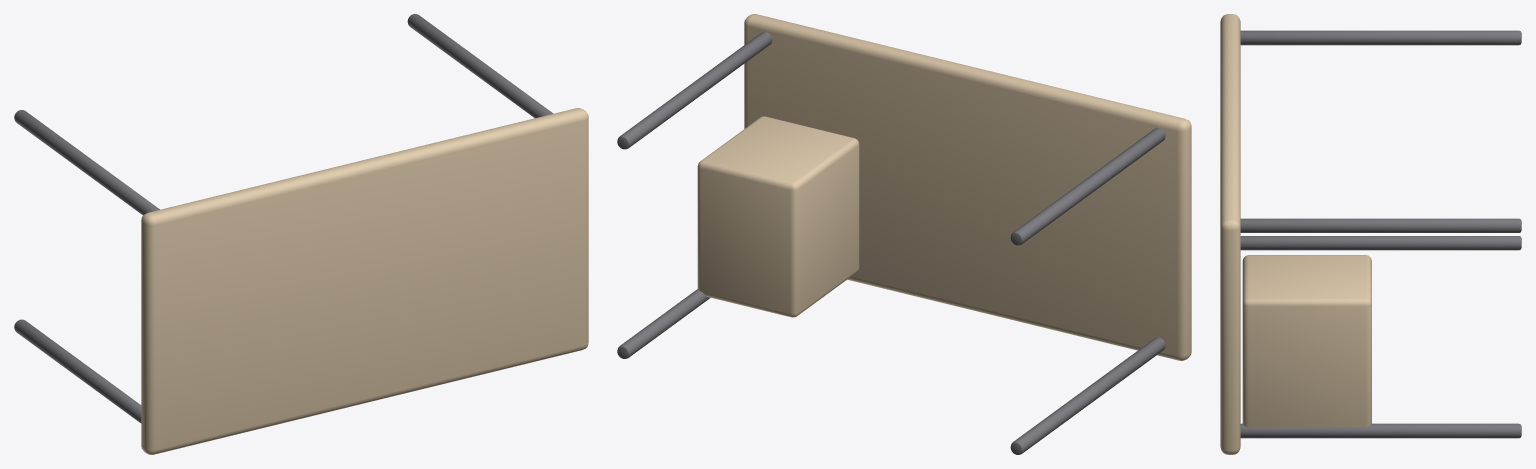
The model's file is desk_single.glb.
The picture shows the model from 3 angles, left to right: view 1: azimuth 30°, elevation 25°; view 2: azimuth 150°, elevation 25°; view 3: azimuth 270°, elevation 25°; orthographic projection. The views are drawn at different scales.
Parts seen in each view (by area): view 1: Top, Leg_0.55_0.28, Leg_-0.55_0.28, Leg_-0.55_-0.28; view 2: Top, Drawer, Leg_-0.55_0.28, Leg_-0.55_-0.28, Leg_0.55_0.28, Leg_0.55_-0.28; view 3: Drawer, Top, Leg_-0.55_0.28, Leg_-0.55_-0.28, Leg_0.55_0.28, Leg_0.55_-0.28.
Boxes of the visible parts, x1=… form: Top: x1=141, y1=108, x2=588, y2=454; Leg_0.55_0.28: x1=407, y1=14, x2=553, y2=118; Leg_-0.55_0.28: x1=14, y1=110, x2=159, y2=214; Leg_-0.55_-0.28: x1=14, y1=319, x2=141, y2=423; Top: x1=744, y1=14, x2=1191, y2=360; Drawer: x1=697, y1=116, x2=859, y2=317; Leg_-0.55_0.28: x1=1010, y1=127, x2=1165, y2=245; Leg_-0.55_-0.28: x1=1010, y1=337, x2=1165, y2=454; Leg_0.55_0.28: x1=617, y1=31, x2=772, y2=149; Leg_0.55_-0.28: x1=617, y1=289, x2=710, y2=358; Drawer: x1=1242, y1=255, x2=1371, y2=427; Top: x1=1220, y1=14, x2=1240, y2=454; Leg_-0.55_0.28: x1=1240, y1=30, x2=1521, y2=45; Leg_-0.55_-0.28: x1=1240, y1=236, x2=1521, y2=250; Leg_0.55_0.28: x1=1240, y1=218, x2=1521, y2=232; Leg_0.55_-0.28: x1=1240, y1=423, x2=1521, y2=438.
Size of the model in its own units: 1.24 by 0.64 by 0.745.
